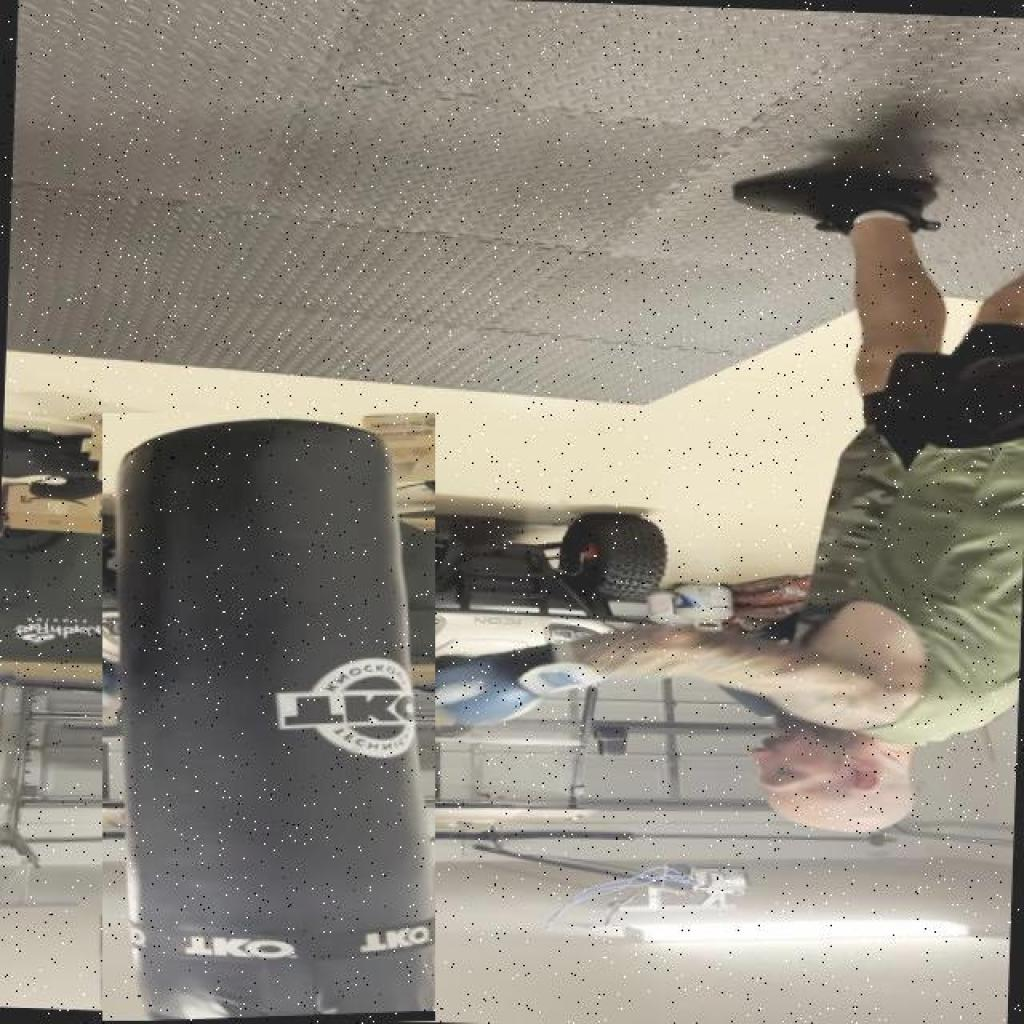bag: (102, 413, 436, 1020)
cross: (366, 564, 1020, 886)
